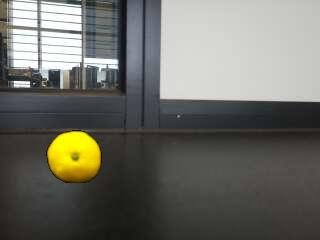Lemon: (45, 128, 103, 183)
